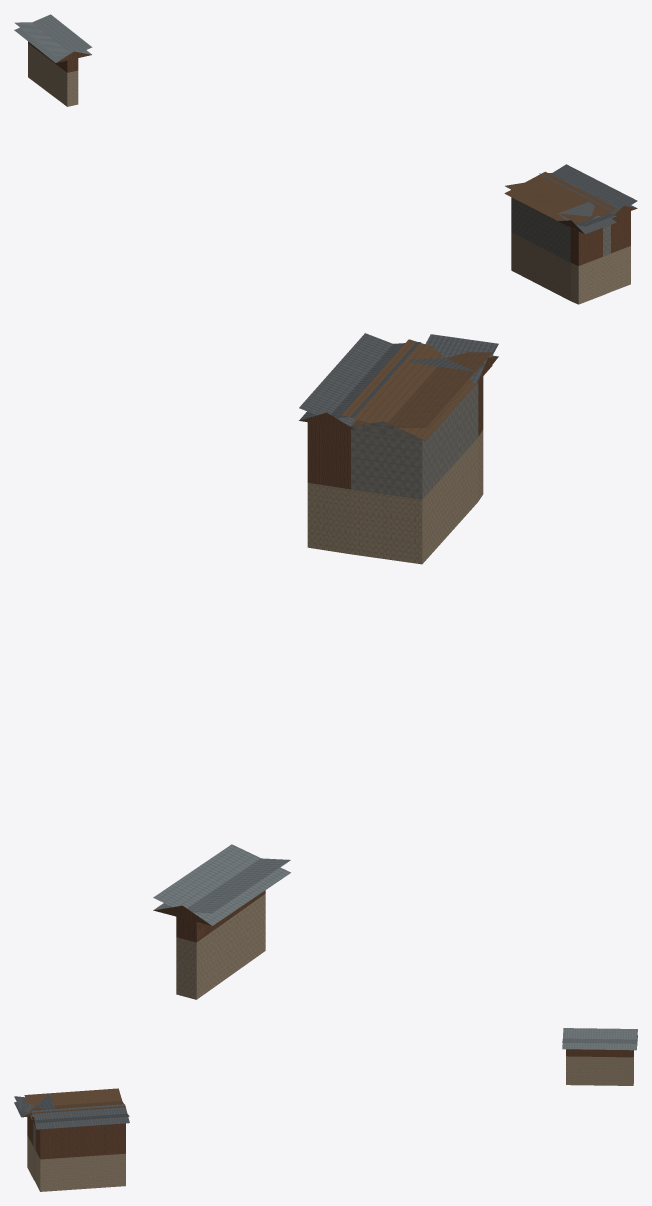
File: bld_c32_44_247.gltf
The picture shows the model from 3 angles, top to bottom: view 1: azimuth 30°, elevation 25°; view 2: azimuth 150°, elevation 25°; view 3: azimuth 270°, elevation 25°; orthographic projection. The views are drawn at different scales.
Parts seen in each view (by area): view 1: bld_c32_44_247; view 2: bld_c32_44_247; view 3: bld_c32_44_247.
Boxes of the visible parts, box(x1,y1,x2,y2) form: bld_c32_44_247: box(14, 14, 637, 304); bld_c32_44_247: box(153, 333, 498, 999); bld_c32_44_247: box(14, 1028, 637, 1191).
Bounding box in the file's own units: 37.26 × 11.1 × 88.86.
8 materials, 8 textured.
